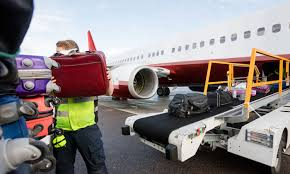baggagetruck: (120, 43, 290, 173)
